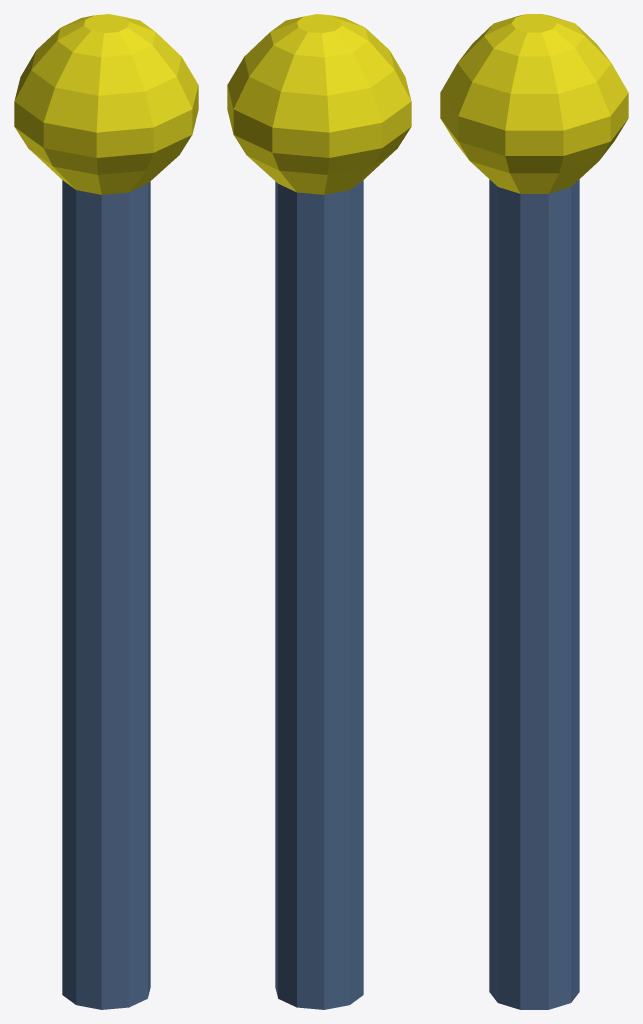
Rendered from AstronautAntenna.glb.
The picture shows the model from 3 angles, left to right: view 1: azimuth 30°, elevation 25°; view 2: azimuth 150°, elevation 25°; view 3: azimuth 270°, elevation 25°; orthographic projection.
Parts seen in each view (by area): view 1: Antena; view 2: Antena; view 3: Antena.
Part boxes in pixels (box(x1,y1,x2,y2)): Antena: box(14, 14, 198, 1009); Antena: box(227, 14, 411, 1009); Antena: box(440, 14, 628, 1009).
Bounding box in the file's own units: 0.0317 × 0.1888 × 0.0333.
